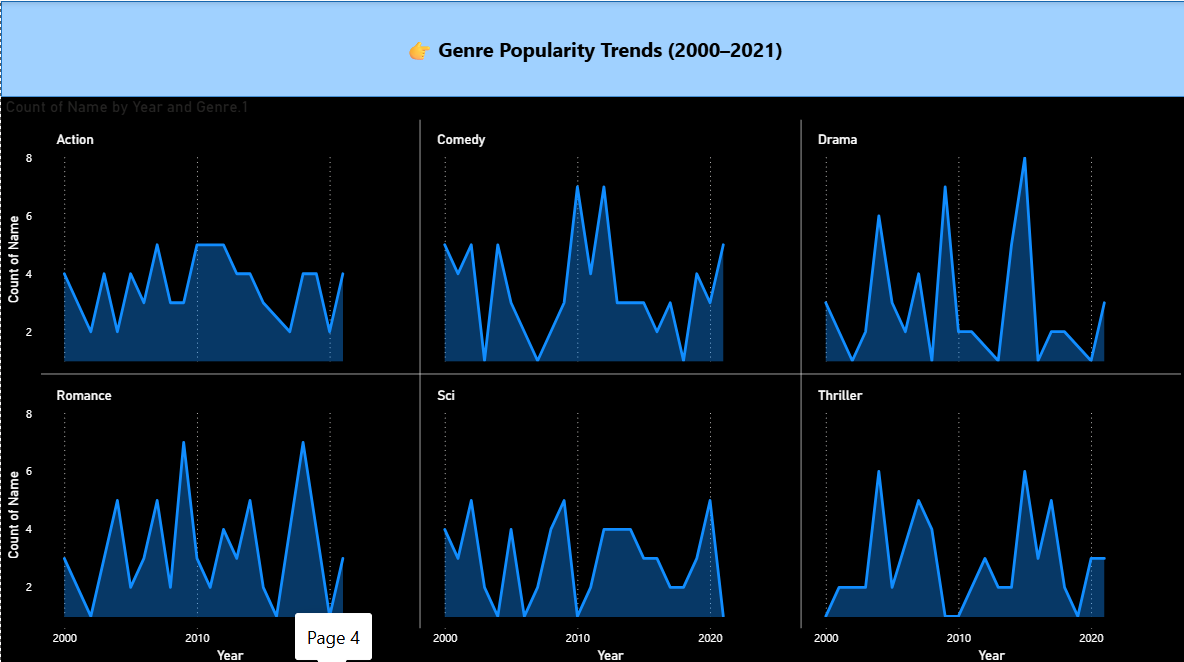

The page's visual inventory and layout, read from the dashboard file:
{"tool":"powerbi","page":{"name":"Page 4","canvas":[1280,720],"ordinal":3},"visuals":[{"type":"areaChart","fields":{"Category":["Movies.Year"],"Y":["CountNonNull(Movies.Name)"],"Rows":["Movies.Genre.1"]},"box":[0,103.6,1280.8,616.9],"z":0},{"type":"textbox","title":"👉 Genre Popularity Trends (2000–2021)","box":[3.2,0,1271.1,103.6],"z":1},{"type":"shape","box":[0,0,1280.8,103.6],"z":2}]}

Visuals, with their boxes in screenshot pixels (x1, y1, x2, y2), scaled from the page's 1280x720 canvas onto the 1184x662 screenshot:
areaChart - Movies.Year x CountNonNull(Movies.Name): [0,95,1183,661]
"👉 Genre Popularity Trends (2000–2021)" textbox: [3,0,1179,95]
shape: [0,0,1183,95]
